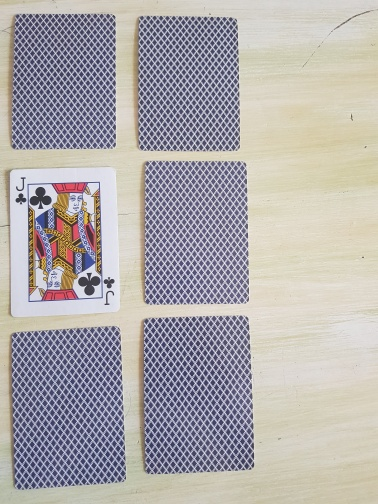jack: (9, 165, 120, 319)
